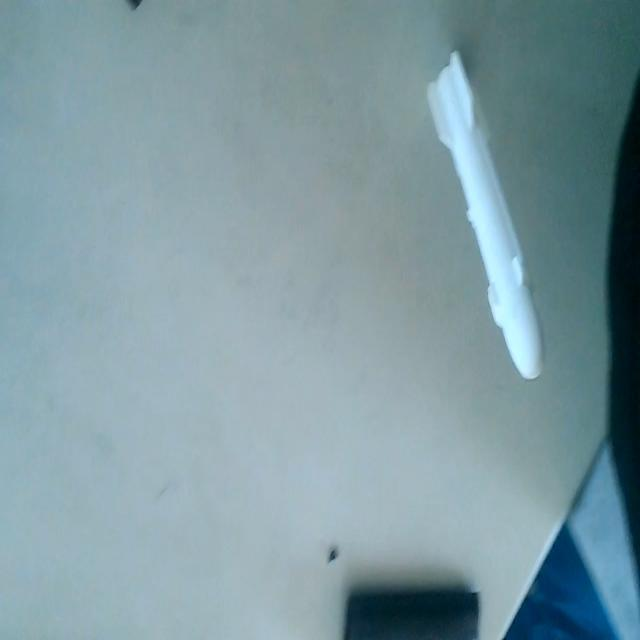Rocket: (427, 49, 545, 387)
